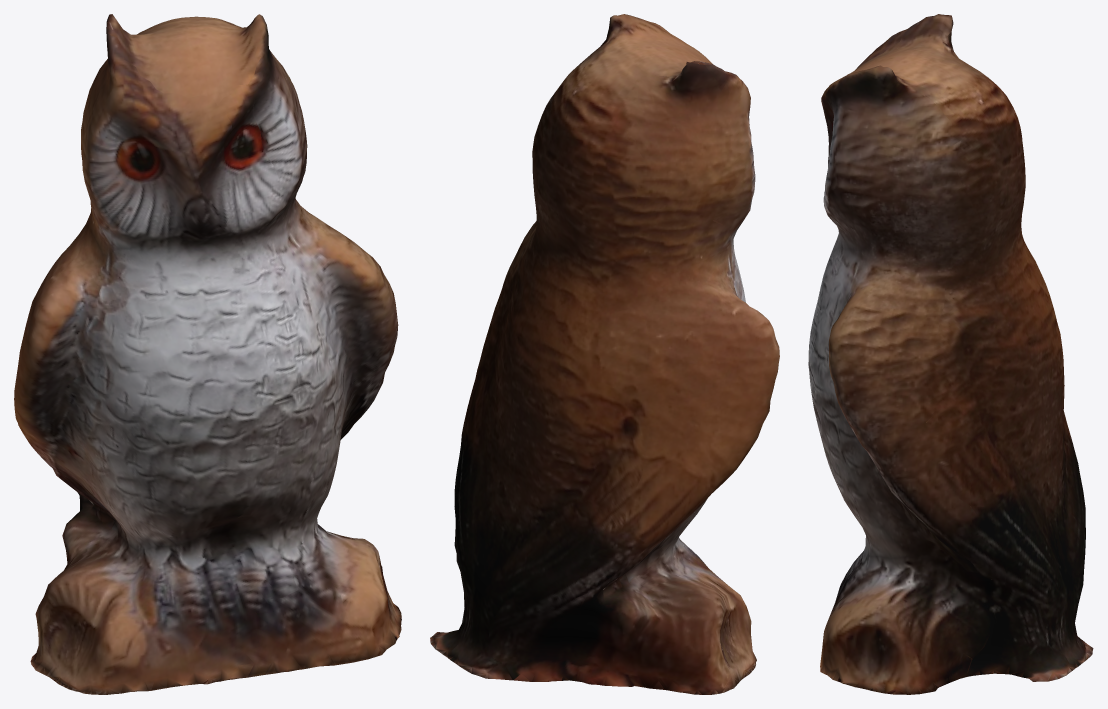
3 renders of one model, left to right at view 1: azimuth 30°, elevation 25°; view 2: azimuth 150°, elevation 25°; view 3: azimuth 270°, elevation 25°, orthographic. The views are drawn at different scales.
Visible parts, largest first — view 1: Geode; view 2: Geode; view 3: Geode.
Boxes of the visible parts, box(x1,y1,x2,y2) form: Geode: box(14, 14, 401, 694); Geode: box(430, 14, 779, 694); Geode: box(808, 14, 1093, 694).
Size of the model in its own units: 0.0748 by 0.134 by 0.0594.
Materials: 1 (1 with a texture image).
